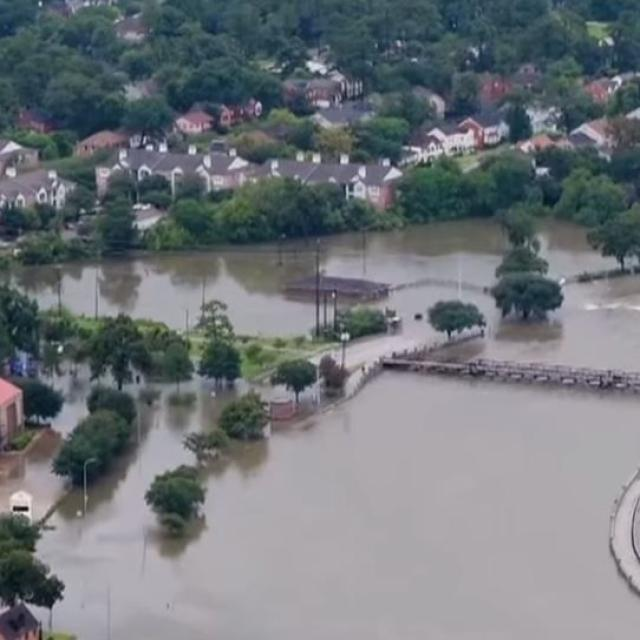flooded_areas: (13, 207, 621, 639)
